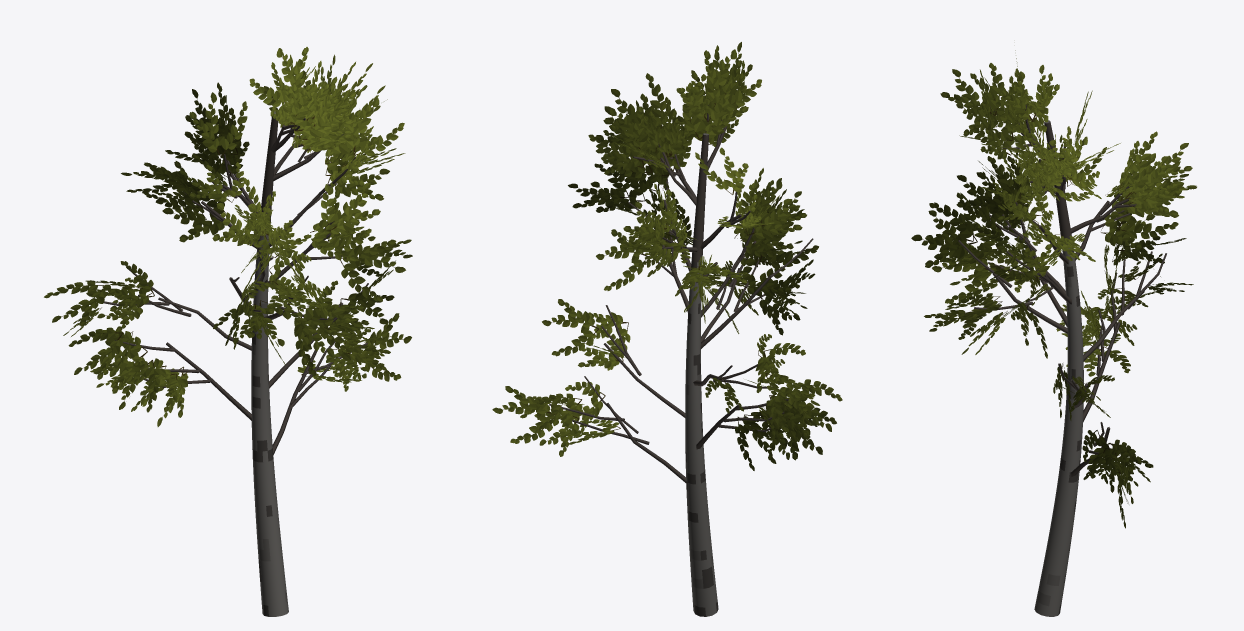
File: birch_1_burnt2.glb
3 renders of one model, left to right at view 1: azimuth 30°, elevation 25°; view 2: azimuth 150°, elevation 25°; view 3: azimuth 270°, elevation 25°, orthographic. The views are drawn at different scales.
Parts seen in each view (by area): view 1: birch_1_burnt2; view 2: birch_1_burnt2; view 3: birch_1_burnt2.
Part boxes in pixels (box(x1,y1,x2,y2)): birch_1_burnt2: box(44, 47, 412, 616); birch_1_burnt2: box(492, 42, 842, 616); birch_1_burnt2: box(911, 50, 1196, 616).
Bounding box in the file's own units: 6.88 × 10.13 × 5.21.
Materials: 5 (1 with a texture image).
